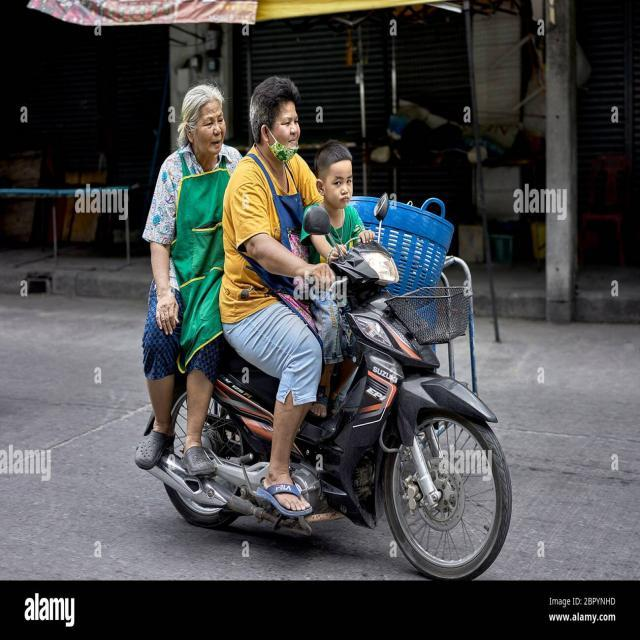No helmet: (242, 72, 311, 157)
Triple riding: (156, 75, 372, 348)
